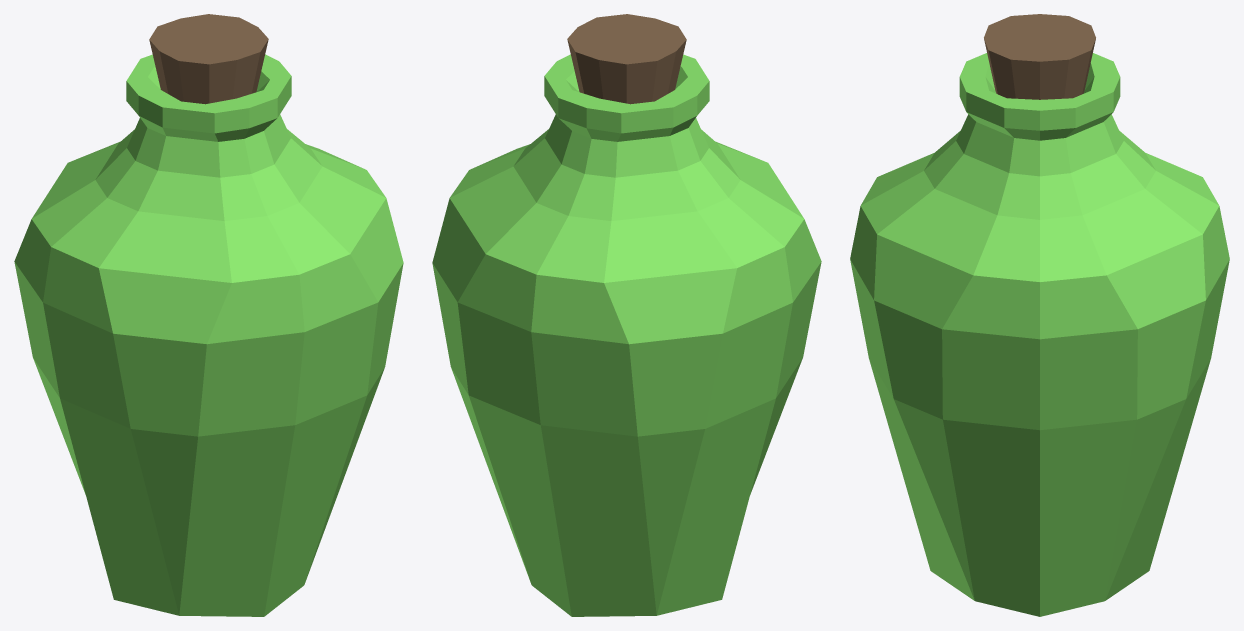
Rendered from greenBottle.glb.
3 views of the same model, side by side, from view 1: azimuth 30°, elevation 25°; view 2: azimuth 150°, elevation 25°; view 3: azimuth 270°, elevation 25° (orthographic).
Visible parts, largest first — view 1: Vial_Green_3; view 2: Vial_Green_3; view 3: Vial_Green_3.
Part boxes in pixels (bbox=[...]): Vial_Green_3: bbox=[14, 14, 403, 616]; Vial_Green_3: bbox=[432, 14, 821, 616]; Vial_Green_3: bbox=[850, 14, 1229, 616].
Size of the model in its own units: 0.6713 by 1.04 by 0.6704.
